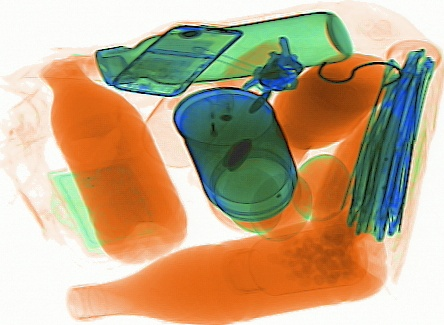lighter: (204, 90, 237, 167)
